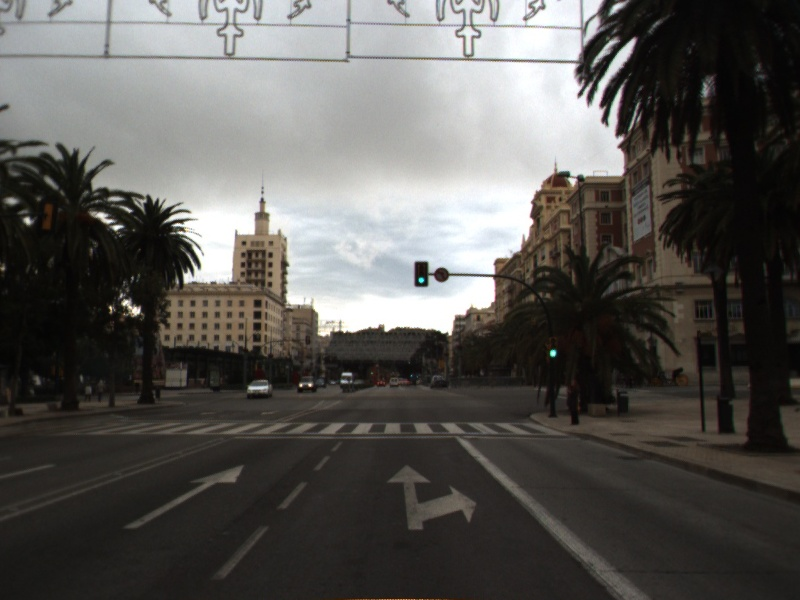STRAIGHT: (120, 462, 246, 531)
STRAIGHT_RIGHT: (383, 461, 480, 532)
